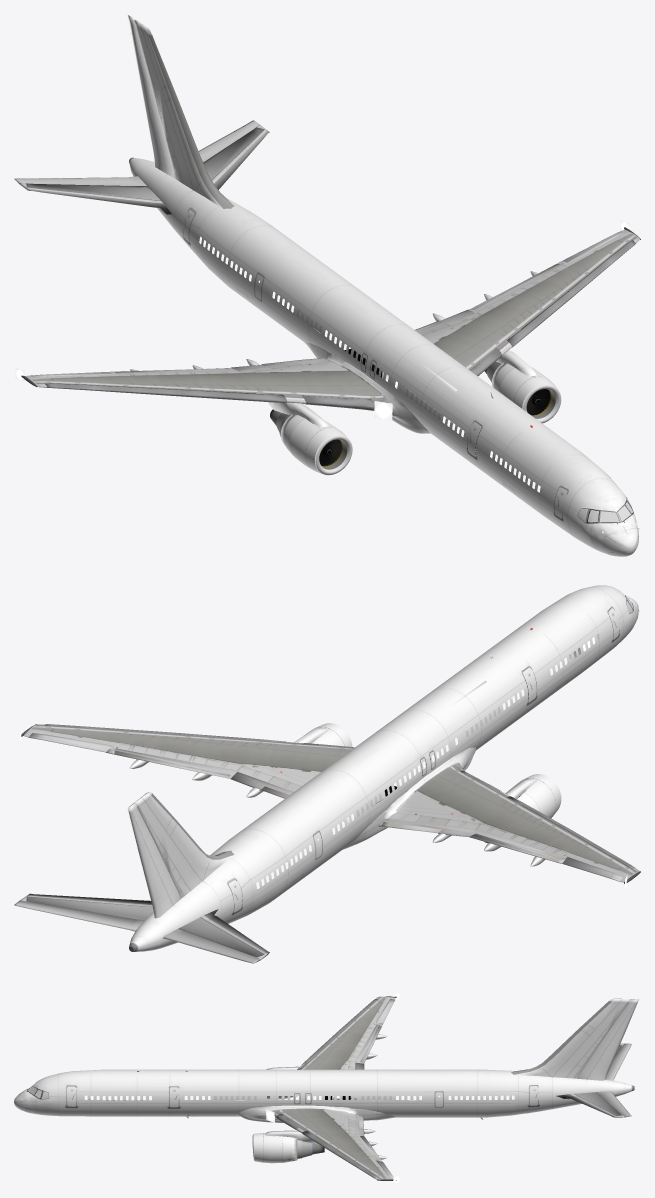
3 renders of one model, top to bottom at view 1: azimuth 30°, elevation 25°; view 2: azimuth 150°, elevation 25°; view 3: azimuth 270°, elevation 25°, orthographic. The views are drawn at different scales.
Visible parts, largest first — view 1: Fuselage_mesh_001-mesh, Wing2_mesh-mesh, Wing1_mesh-mesh, Fuselage_mesh_014-mesh, Engine_mesh-mesh, HorzStab2_mesh-mesh, Fuselage_mesh_012-mesh, Slat4_mesh-mesh, HorzStab1_mesh-mesh, Wingroot2_mesh-mesh, Slat1_mesh-mesh, Engine_001_mesh-mesh (+1 smaller); view 2: Fuselage_mesh_001-mesh, Wing2_mesh-mesh, Wing1_mesh-mesh, Fuselage_mesh_014-mesh, Fuselage_mesh_012-mesh, HorzStab1_mesh-mesh, Engine_mesh-mesh, HorzStab2_mesh-mesh, Wingroot2_mesh-mesh, Elevator1_mesh-mesh, Elevator2_mesh-mesh, Flap5_mesh-mesh (+4 smaller); view 3: Fuselage_mesh_001-mesh, Fuselage_mesh_014-mesh, Wing1_mesh-mesh, Wing2_mesh-mesh, Fuselage_mesh_012-mesh, Wingroot1_mesh-mesh, Engine_mesh-mesh, HorzStab1_mesh-mesh, Slat1_mesh-mesh, LReverserTurbofan_mesh-mesh, Elevator2_mesh-mesh, Untitled_001_mesh-mesh (+3 smaller).
Boxes of the visible parts, x1,y1,x2,y2 form: Fuselage_mesh_001-mesh: (129,157,638,556); Wing2_mesh-mesh: (25,360,397,416); Wing1_mesh-mesh: (423,229,639,370); Fuselage_mesh_014-mesh: (134,19,234,208); Engine_mesh-mesh: (289,367,557,473); HorzStab2_mesh-mesh: (20,183,171,214); Fuselage_mesh_012-mesh: (127,15,173,177); Slat4_mesh-mesh: (45,383,287,402); HorzStab1_mesh-mesh: (203,125,269,189); Wingroot2_mesh-mesh: (305,342,430,433); Slat1_mesh-mesh: (507,240,635,347); Engine_001_mesh-mesh: (314,384,561,475); Fuselage_mesh_001-mesh: (129,585,638,951); Wing2_mesh-mesh: (387,761,639,882); Wing1_mesh-mesh: (23,724,353,785); Fuselage_mesh_014-mesh: (134,792,234,898); Fuselage_mesh_012-mesh: (127,803,180,918); HorzStab1_mesh-mesh: (20,893,153,920); Engine_mesh-mesh: (304,723,561,817); HorzStab2_mesh-mesh: (178,909,269,960); Wingroot2_mesh-mesh: (342,747,476,849); Elevator1_mesh-mesh: (14,900,144,931); Elevator2_mesh-mesh: (163,928,259,963); Flap5_mesh-mesh: (114,750,230,778); Fuselage_mesh_001-mesh: (14,1069,634,1117); Fuselage_mesh_014-mesh: (511,998,630,1078); Wing1_mesh-mesh: (263,1109,393,1179); Wing2_mesh-mesh: (298,996,395,1069); Fuselage_mesh_012-mesh: (577,999,638,1080); Wingroot1_mesh-mesh: (236,1105,396,1122); Engine_mesh-mesh: (253,1096,287,1163); HorzStab1_mesh-mesh: (556,1092,624,1117); Slat1_mesh-mesh: (302,1130,377,1177); LReverserTurbofan_mesh-mesh: (282,1136,297,1162); Elevator2_mesh-mesh: (606,1043,631,1080); Untitled_001_mesh-mesh: (290,1137,324,1158).
Bounding box in the file's own units: 37.2 × 12.34 × 53.45.
Materials: 11 (9 with a texture image).
